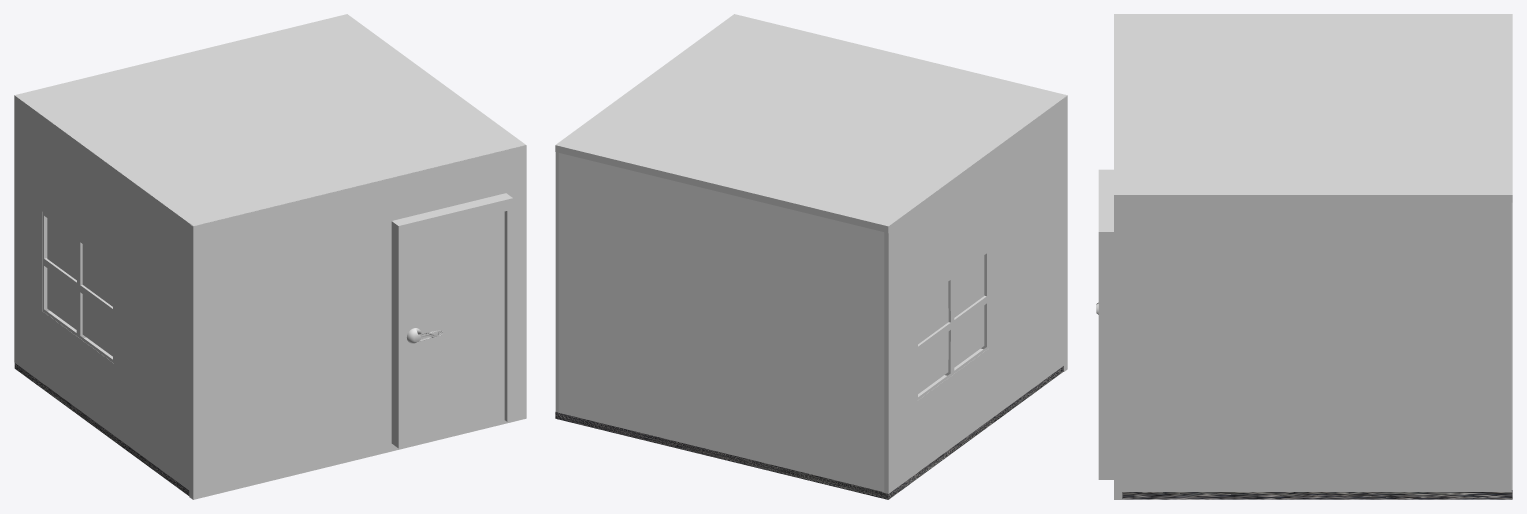
Rendered from Bedroom.fbx.
3 renders of one model, left to right at view 1: azimuth 30°, elevation 25°; view 2: azimuth 150°, elevation 25°; view 3: azimuth 270°, elevation 25°, orthographic. The views are drawn at different scales.
Parts seen in each view (by area): view 1: DoorWall, Roof, WindowWallLeft, InvisibleDoorSliderCube, DoorFrame, WindowGreenMirror, Floor; view 2: FrontWall, Roof, WindowWallLeft, WindowGreenMirror, Floor, DoorWall, WallRight; view 3: WallRight, Roof, DoorFrame, Floor, DoorWall, FrontWall.
Boxes of the visible parts, left/top/right/bottom form: DoorWall: left=189, top=145, right=526, bottom=499; Roof: left=14, top=14, right=525, bottom=225; WindowWallLeft: left=14, top=95, right=199, bottom=493; InvisibleDoorSliderCube: left=403, top=211, right=504, bottom=444; DoorFrame: left=391, top=193, right=512, bottom=448; WindowGreenMirror: left=47, top=218, right=112, bottom=356; Floor: left=14, top=363, right=189, bottom=495; FrontWall: left=558, top=153, right=884, bottom=491; Roof: left=555, top=14, right=1066, bottom=232; WindowWallLeft: left=882, top=95, right=1067, bottom=493; WindowGreenMirror: left=918, top=255, right=984, bottom=393; Floor: left=555, top=366, right=1063, bottom=499; DoorWall: left=1063, top=96, right=1067, bottom=371; WallRight: left=555, top=152, right=558, bottom=412; WallRight: left=1122, top=202, right=1511, bottom=491; Roof: left=1114, top=14, right=1512, bottom=202; DoorFrame: left=1098, top=169, right=1113, bottom=479; Floor: left=1122, top=490, right=1512, bottom=499; DoorWall: left=1114, top=195, right=1122, bottom=499; FrontWall: left=1511, top=202, right=1512, bottom=489.
Bounding box in the file's own units: 23.1 × 18.13 × 22.45.
75 materials, 9 textured.
